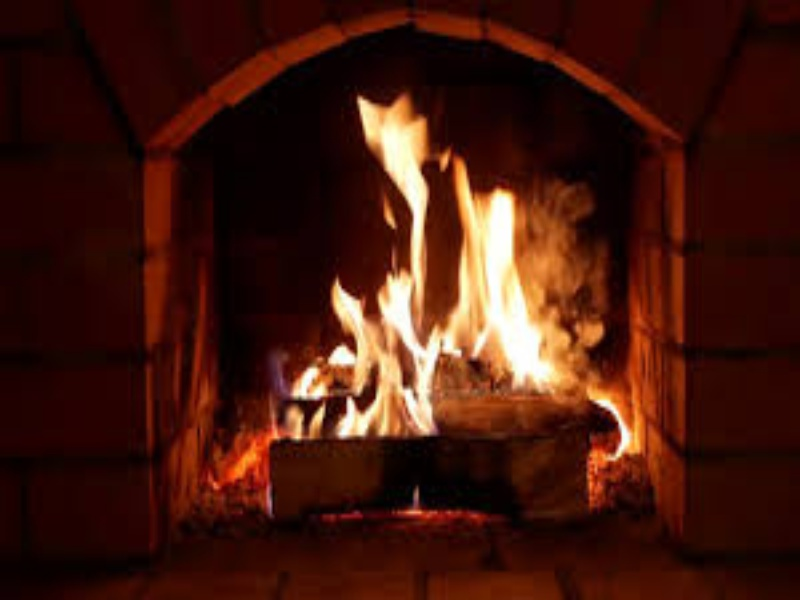fire: (287, 99, 559, 435)
